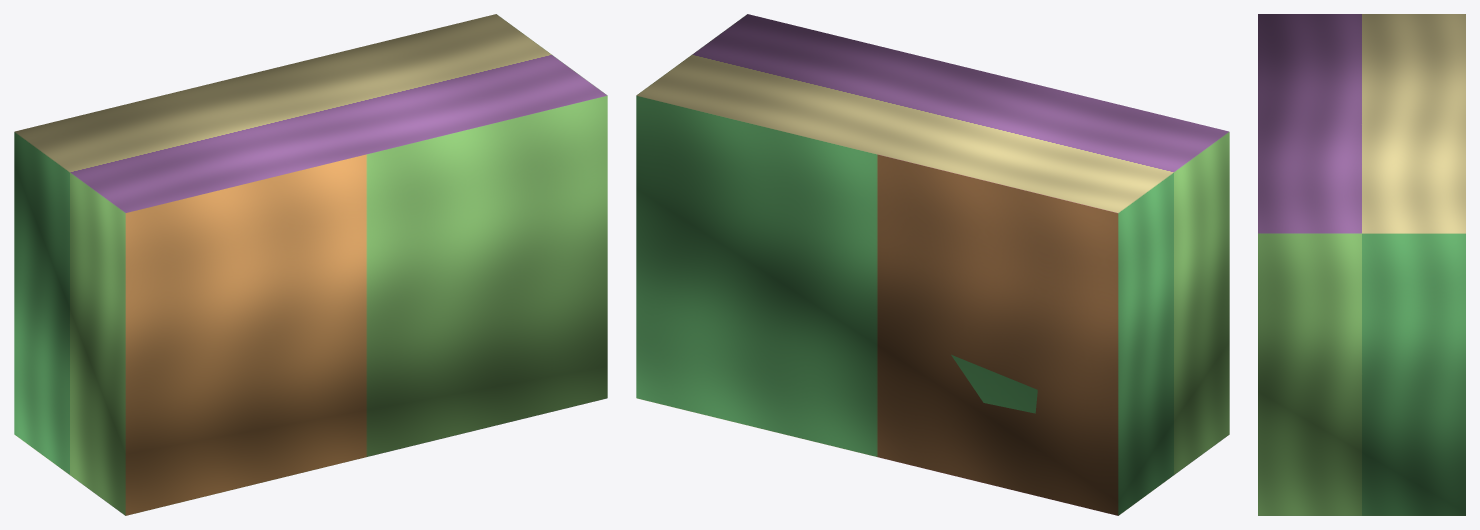
File: bush_a.glb
3 renders of one model, left to right at view 1: azimuth 30°, elevation 25°; view 2: azimuth 150°, elevation 25°; view 3: azimuth 270°, elevation 25°, orthographic. The views are drawn at different scales.
Parts seen in each view (by area): view 1: col; view 2: col, lod0; view 3: col.
Part boxes in pixels (x1=…): col: x1=14, y1=14, x2=607, y2=515; col: x1=636, y1=14, x2=1229, y2=515; lod0: x1=951, y1=354, x2=1037, y2=413; col: x1=1258, y1=14, x2=1465, y2=515.
Size of the model in its own units: 2 by 1.2 by 0.7998.
Materials: 1 (1 with a texture image).
